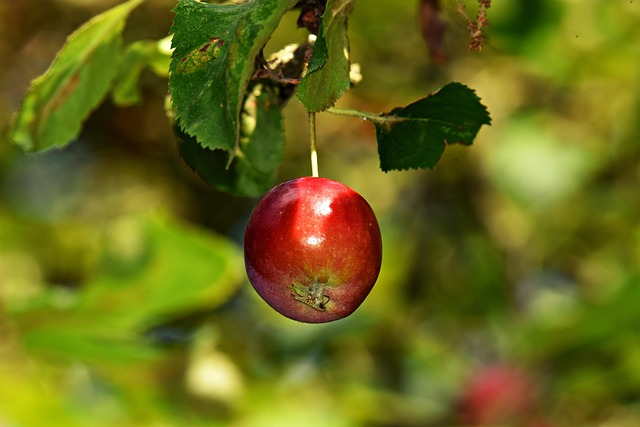apple/: (226, 174, 401, 342)
